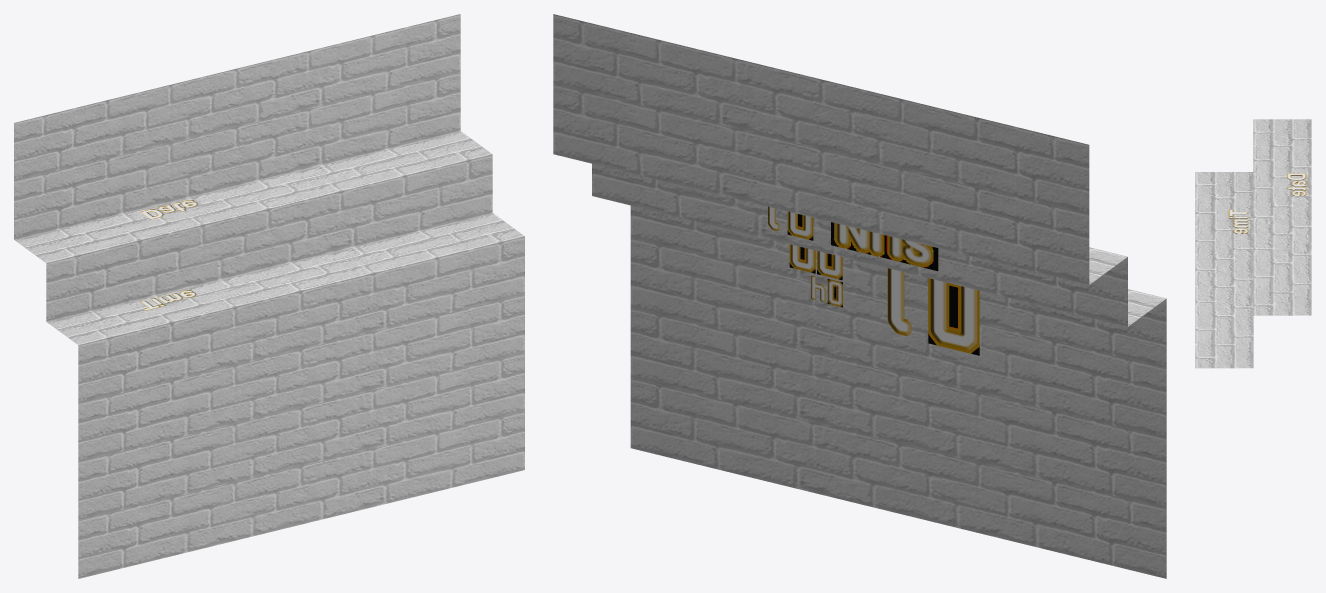
File: digital_clock.obj
3 renders of one model, left to right at view 1: azimuth 30°, elevation 25°; view 2: azimuth 150°, elevation 25°; view 3: azimuth 270°, elevation 25°, orthographic. The views are drawn at different scales.
Visible parts, largest first — view 1: zbg2, zbg1, zbg5, zbg7, zbg3, zbg0, zbg8, zbg6, zbg4; view 2: zbg1, zbg7, zbg0, zbg8, zbg2, zbg5, zbg3, hour1, week, hour2, zbg6; view 3: zbg4, zbg6.
Boxes of the visible parts, box(x1,y1,x2,y2) form: zbg2: box(78, 295, 524, 461); zbg1: box(78, 353, 524, 520); zbg5: box(46, 154, 492, 321); zbg7: box(14, 72, 460, 239); zbg3: box(78, 236, 524, 403); zbg0: box(78, 411, 524, 578); zbg8: box(14, 14, 460, 181); zbg6: box(14, 131, 492, 263); zbg4: box(46, 213, 524, 345); zbg1: box(630, 308, 1166, 508); zbg7: box(553, 84, 1089, 284); zbg0: box(630, 378, 1166, 578); zbg8: box(553, 14, 1089, 214); zbg2: box(630, 238, 1166, 438); zbg5: box(592, 163, 1127, 326); zbg3: box(630, 205, 1166, 368); hour1: box(928, 278, 979, 355); week: box(831, 222, 938, 271); hour2: box(887, 268, 911, 335); zbg6: box(1089, 247, 1127, 284); zbg4: box(1195, 172, 1253, 368); zbg6: box(1253, 119, 1311, 315).
Bounding box in the file's own units: 16 × 14 × 4.
16 materials, 16 textured.
